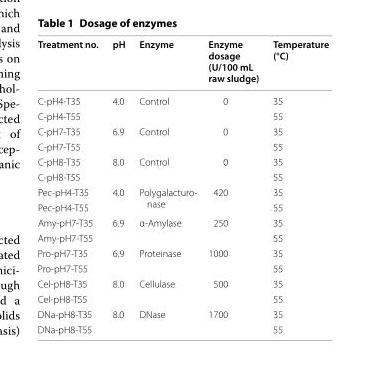table: (36, 37, 328, 334)
table column: (131, 37, 201, 334), (36, 37, 104, 334), (201, 37, 265, 334), (265, 37, 328, 334), (104, 37, 131, 334)
table column header: (36, 37, 328, 89)
table row: (36, 37, 328, 89), (36, 89, 328, 108), (36, 153, 328, 169), (36, 214, 328, 230), (36, 290, 328, 306), (36, 108, 328, 123), (36, 123, 328, 138), (36, 138, 328, 153), (36, 169, 328, 184), (36, 184, 328, 199), (36, 199, 328, 214), (36, 230, 328, 245), (36, 245, 328, 260), (36, 260, 328, 275), (36, 275, 328, 290), (36, 306, 328, 321), (36, 321, 328, 334)
table spanning cell: (131, 89, 201, 123), (201, 89, 265, 123), (131, 153, 201, 184), (131, 214, 201, 245), (131, 275, 201, 306), (131, 123, 201, 153), (131, 184, 201, 214), (131, 245, 201, 275), (201, 153, 265, 184), (201, 214, 265, 245), (201, 275, 265, 306), (131, 306, 201, 334), (201, 123, 265, 153), (201, 184, 265, 214), (201, 245, 265, 275), (201, 306, 265, 334), (104, 89, 131, 123), (104, 153, 131, 184), (104, 214, 131, 245), (104, 275, 131, 306), (104, 123, 131, 153), (104, 184, 131, 214), (104, 245, 131, 275), (104, 306, 131, 334)
